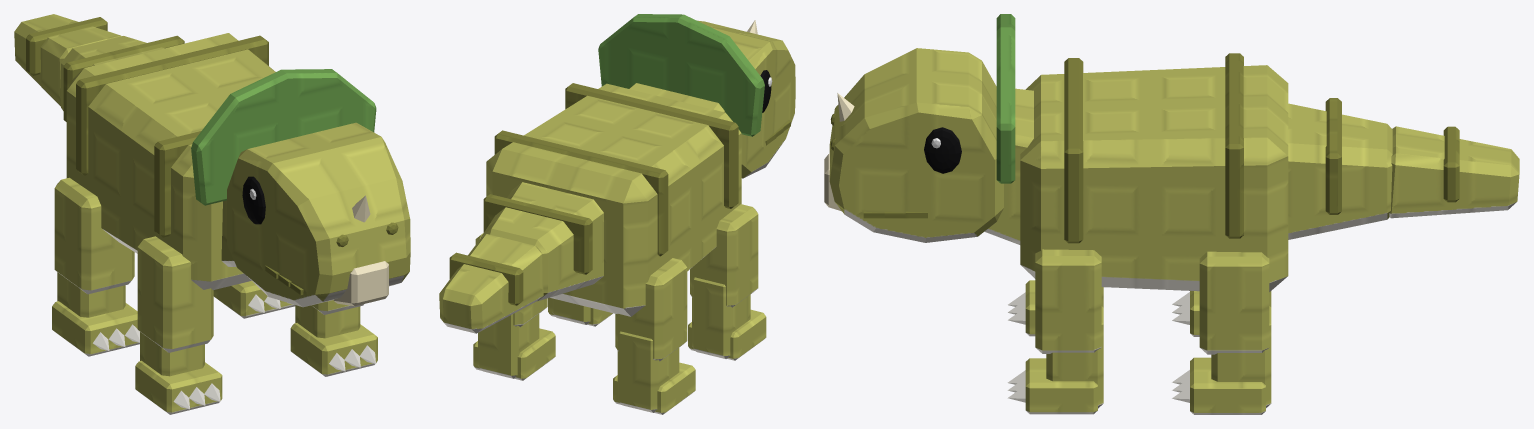
The model's file is 22_Microceratus.glb.
3 renders of one model, left to right at view 1: azimuth 30°, elevation 25°; view 2: azimuth 150°, elevation 25°; view 3: azimuth 270°, elevation 25°, orthographic. The views are drawn at different scales.
Parts seen in each view (by area): view 1: 22_Microceratus; view 2: 22_Microceratus; view 3: 22_Microceratus.
Boxes of the visible parts, box(x1,y1,x2,y2) form: 22_Microceratus: box(14, 14, 410, 414); 22_Microceratus: box(439, 14, 795, 414); 22_Microceratus: box(824, 14, 1519, 414).
Bounding box in the file's own units: 0.6632 × 0.9674 × 1.81.
1 material, 1 textured.
